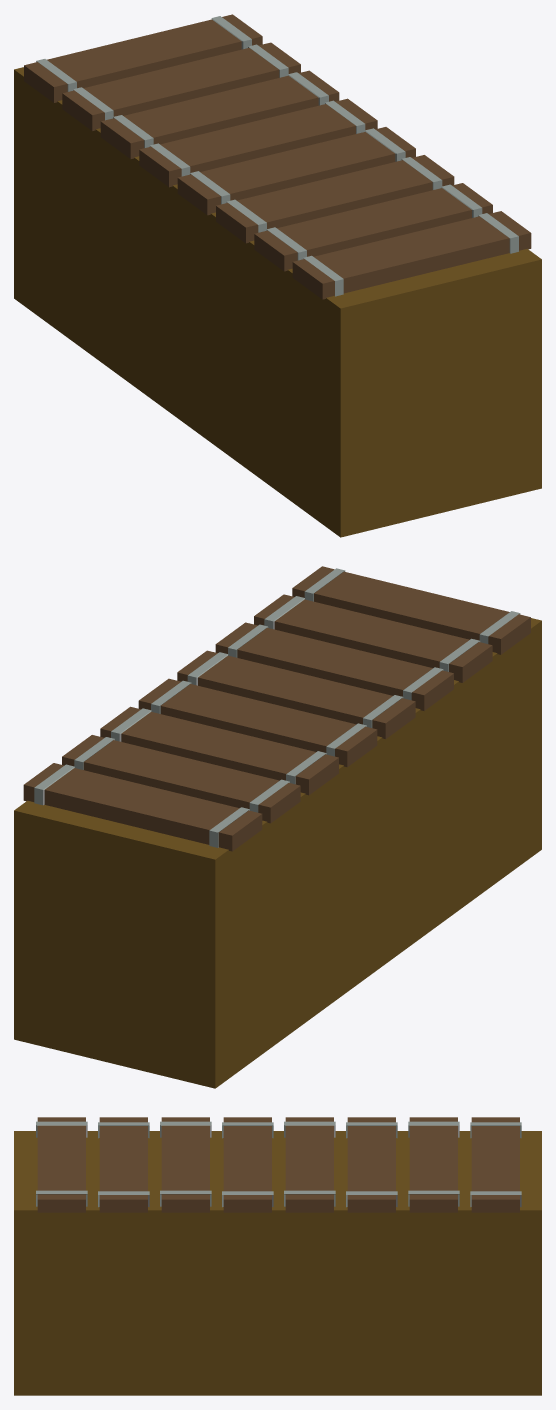
File: Tablas_sobre_tierrra.fbx
The picture shows the model from 3 angles, top to bottom: view 1: azimuth 30°, elevation 25°; view 2: azimuth 150°, elevation 25°; view 3: azimuth 270°, elevation 25°; orthographic projection. The views are drawn at different scales.
Parts seen in each view (by area): view 1: pCube6, pCube17, pCube12, pCube15, pCube11, pCube16, pCube10, pCube13, pCube14; view 2: pCube6, pCube10, pCube13, pCube14, pCube17, pCube11, pCube16, pCube12, pCube15; view 3: pCube6, pCube11, pCube13, pCube15, pCube17, pCube12, pCube14, pCube16, pCube10.
Boxes of the visible parts, x1,y1,x2,y2 form: pCube6: (14,67,541,537); pCube17: (292,211,531,299); pCube12: (100,70,339,158); pCube15: (216,155,454,243); pCube11: (62,42,300,130); pCube16: (254,183,492,271); pCube10: (24,14,262,102); pCube13: (139,98,377,187); pCube14: (177,127,415,215); pCube6: (14,618,541,1088); pCube10: (23,763,262,851); pCube13: (138,678,377,767); pCube14: (177,650,415,739); pCube17: (292,566,530,654); pCube11: (62,735,300,823); pCube16: (254,594,492,682); pCube12: (100,706,338,795); pCube15: (215,622,453,710); pCube6: (14,1131,541,1395); pCube11: (408,1117,459,1212); pCube13: (284,1117,335,1212); pCube15: (160,1117,211,1212); pCube17: (36,1117,87,1212); pCube12: (346,1117,397,1212); pCube14: (222,1117,273,1212); pCube16: (98,1117,149,1212); pCube10: (470,1117,521,1212).
Bounding box in the file's own units: 4.71 × 5.27 × 12.77.
